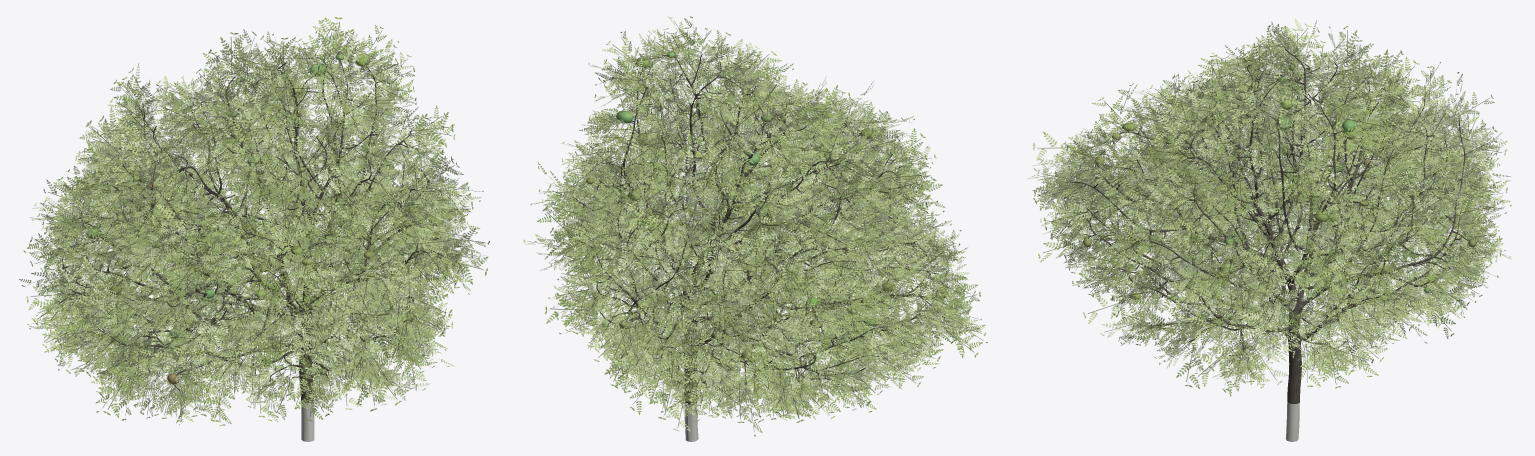
The model's file is tree_37_broadleaf.glb.
3 renders of one model, left to right at view 1: azimuth 30°, elevation 25°; view 2: azimuth 150°, elevation 25°; view 3: azimuth 270°, elevation 25°, orthographic. The views are drawn at different scales.
Visible parts, largest first — view 1: tree_37_broadleaf.leaves, tree_37_broadleaf.trunk_branches, tree_37_broadleaf.foliage_volume, tree_37_broadleaf.trunk_whitewash; view 2: tree_37_broadleaf.leaves, tree_37_broadleaf.trunk_branches, tree_37_broadleaf.foliage_volume, tree_37_broadleaf.trunk_whitewash; view 3: tree_37_broadleaf.leaves, tree_37_broadleaf.trunk_branches, tree_37_broadleaf.foliage_volume, tree_37_broadleaf.trunk_whitewash.
Part boxes in pixels (left/top/right/bottom): tree_37_broadleaf.leaves: left=19, top=17, right=489, bottom=426; tree_37_broadleaf.trunk_branches: left=59, top=51, right=444, bottom=402; tree_37_broadleaf.foliage_volume: left=75, top=54, right=444, bottom=383; tree_37_broadleaf.trunk_whitewash: left=301, top=401, right=314, bottom=441; tree_37_broadleaf.leaves: left=523, top=16, right=987, bottom=436; tree_37_broadleaf.trunk_branches: left=573, top=54, right=944, bottom=404; tree_37_broadleaf.foliage_volume: left=586, top=51, right=947, bottom=362; tree_37_broadleaf.trunk_whitewash: left=684, top=402, right=698, bottom=441; tree_37_broadleaf.leaves: left=1027, top=19, right=1511, bottom=396; tree_37_broadleaf.trunk_branches: left=1069, top=49, right=1469, bottom=404; tree_37_broadleaf.foliage_volume: left=1083, top=62, right=1476, bottom=307; tree_37_broadleaf.trunk_whitewash: left=1285, top=402, right=1299, bottom=441.
Bounding box in the file's own units: 14.4 × 14.21 × 15.55.
Materials: 4 (2 with a texture image).
